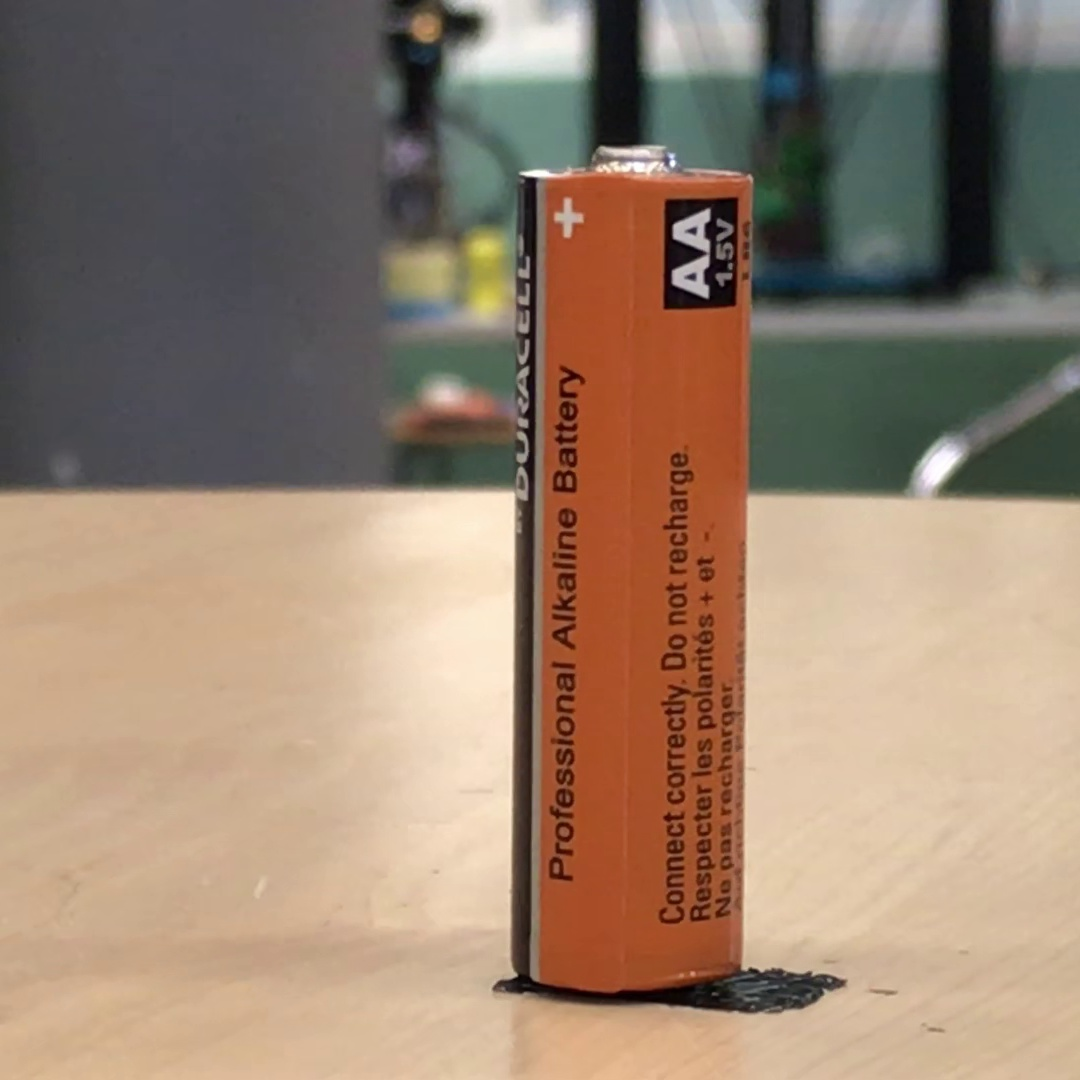keyword: (542, 592, 586, 660)
